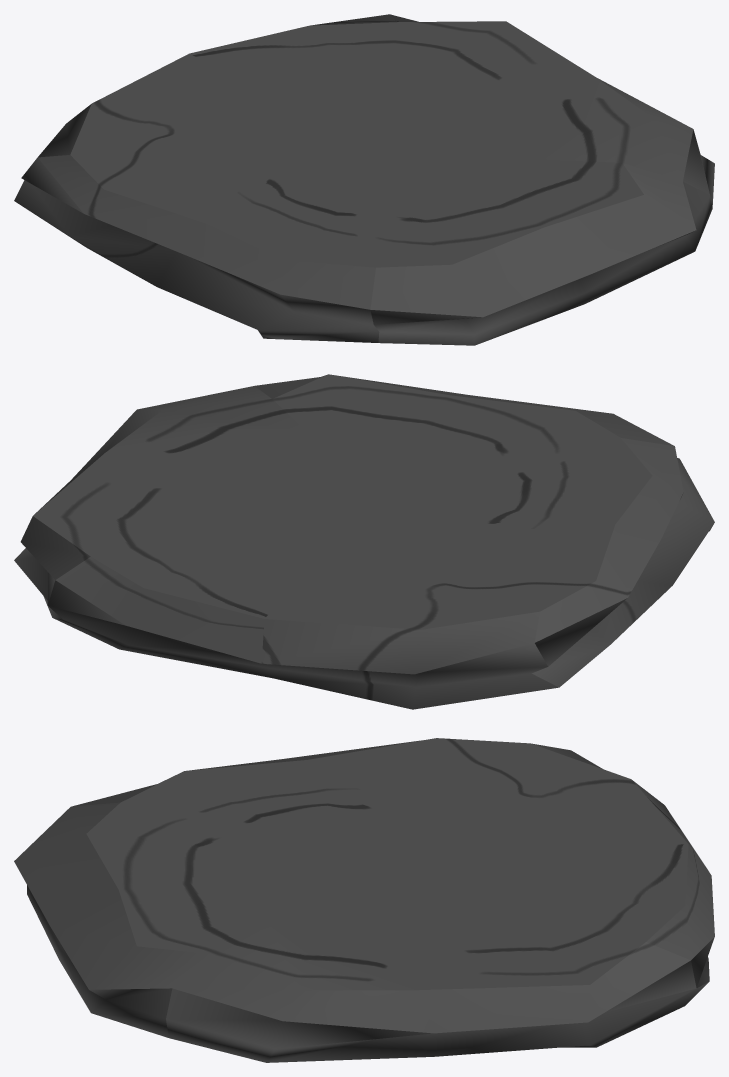
File: Mesh_PlatformRock1_AM.fbx
3 views of the same model, one above another, from view 1: azimuth 30°, elevation 25°; view 2: azimuth 150°, elevation 25°; view 3: azimuth 270°, elevation 25° (orthographic). The views are drawn at different scales.
Parts seen in each view (by area): view 1: pCube14; view 2: pCube14; view 3: pCube14.
Boxes of the visible parts, x1,y1,x2,y2 form: pCube14: (14, 14, 714, 345); pCube14: (14, 374, 714, 709); pCube14: (14, 738, 714, 1062).
Size of the model in its own units: 492 by 56.17 by 501.
